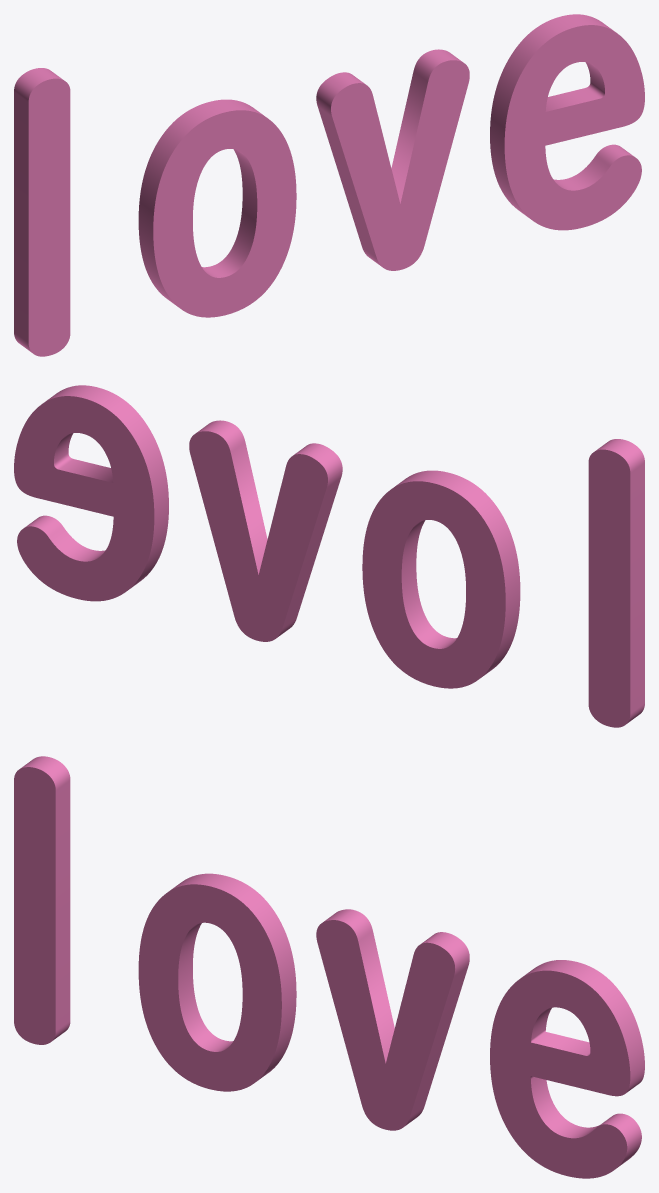
The model's file is title_love.fbx.
3 renders of one model, top to bottom at view 1: azimuth 30°, elevation 25°; view 2: azimuth 150°, elevation 25°; view 3: azimuth 330°, elevation 25°, orthographic.
Parts seen in each view (by area): view 1: テキスト; view 2: テキスト; view 3: テキスト.
Part boxes in pixels (left/top/right/bottom): テキスト: left=14, top=14, right=644, bottom=356; テキスト: left=14, top=385, right=644, bottom=727; テキスト: left=14, top=756, right=644, bottom=1178.
Size of the model in its own units: 11.65 by 5.04 by 0.48.
